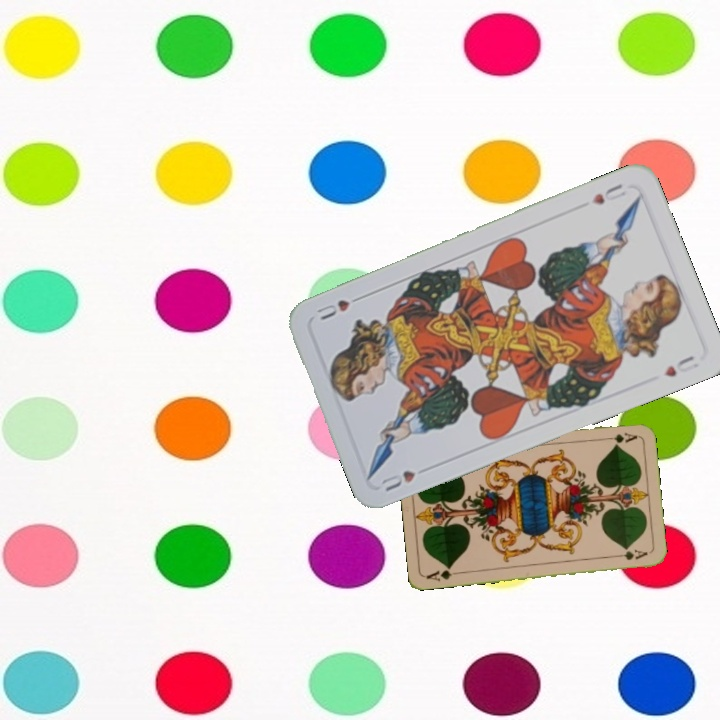GA: (423, 563, 463, 584), (599, 429, 640, 445)
HU: (377, 466, 418, 495), (588, 180, 629, 207)
